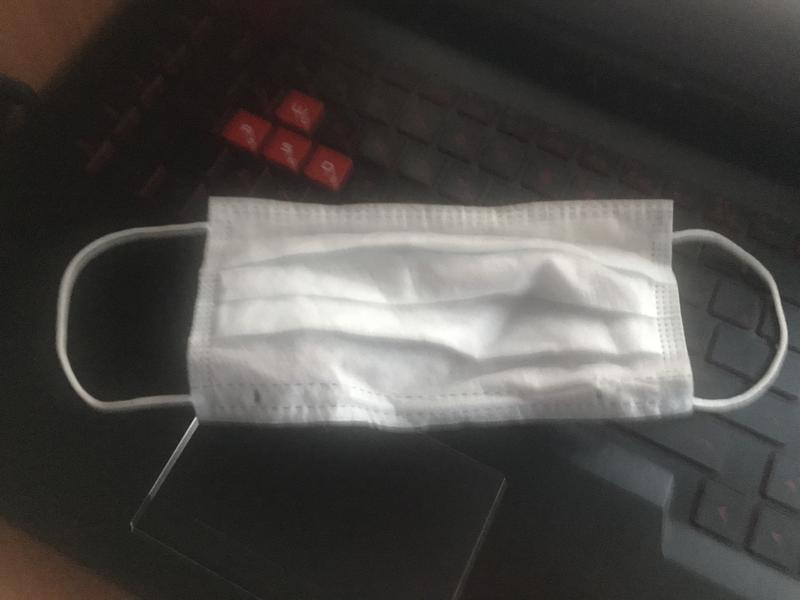medical_mask: (54, 195, 790, 426)
